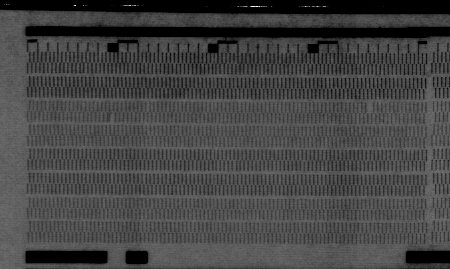Broken hole: (364, 100, 376, 114)
Oblique printing: (105, 111, 117, 123)
